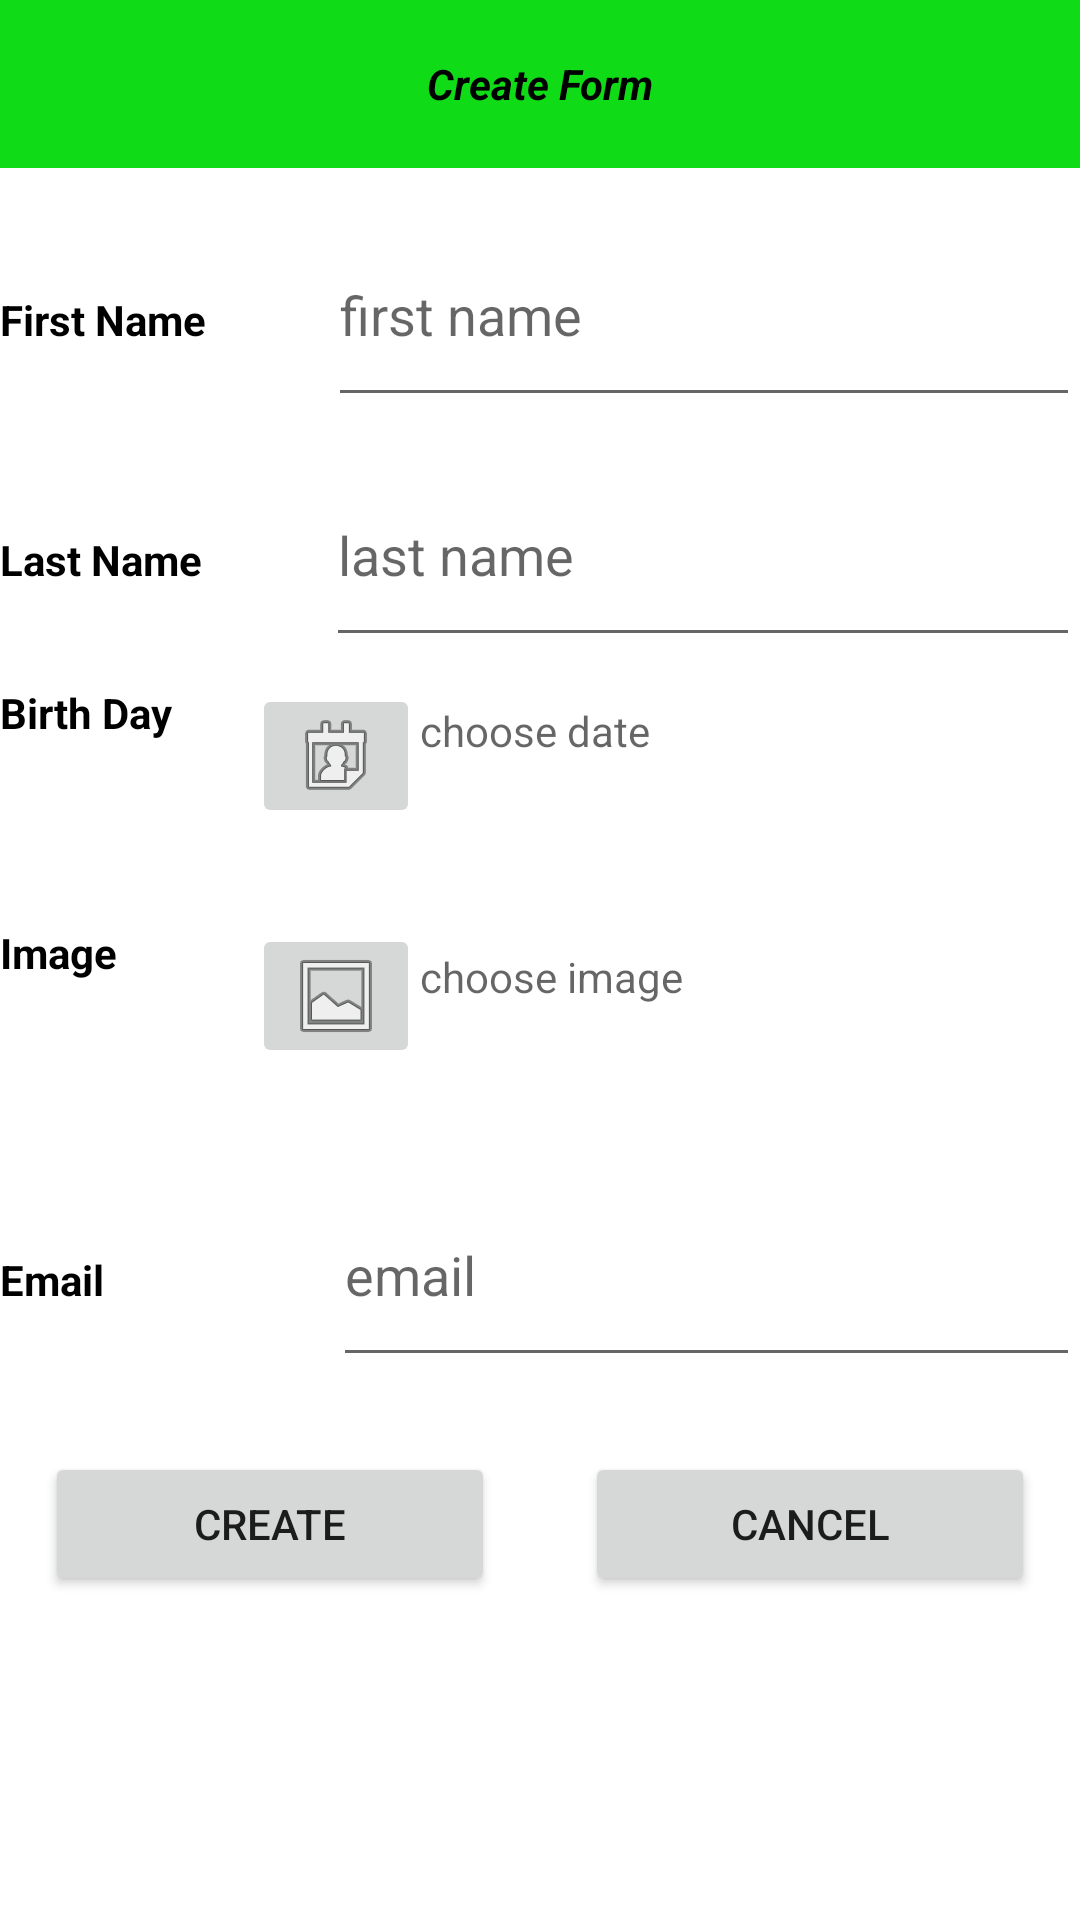

Named icons in this screenshot (1080 x 1920) and their bounding boxes, (x1, y1, x2, y2):
calendar: (264, 702, 408, 810)
gallery: (264, 942, 408, 1050)
